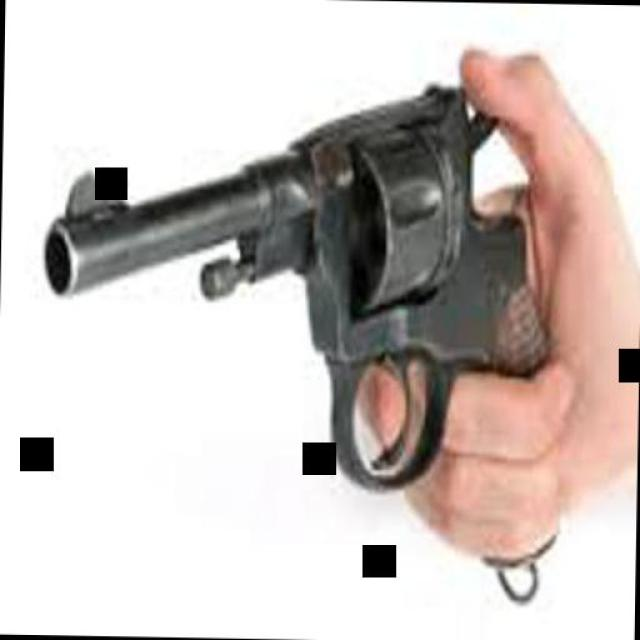gun: (39, 70, 570, 562)
